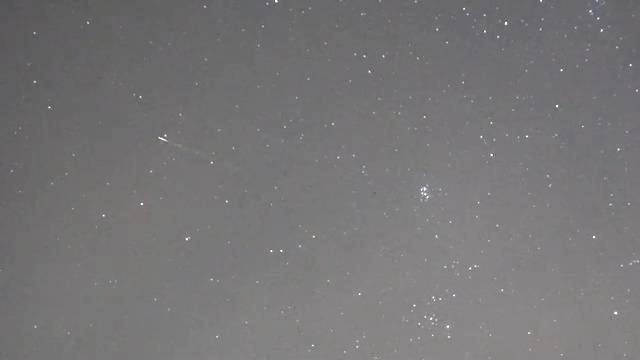meteorite: (137, 132, 200, 149)
